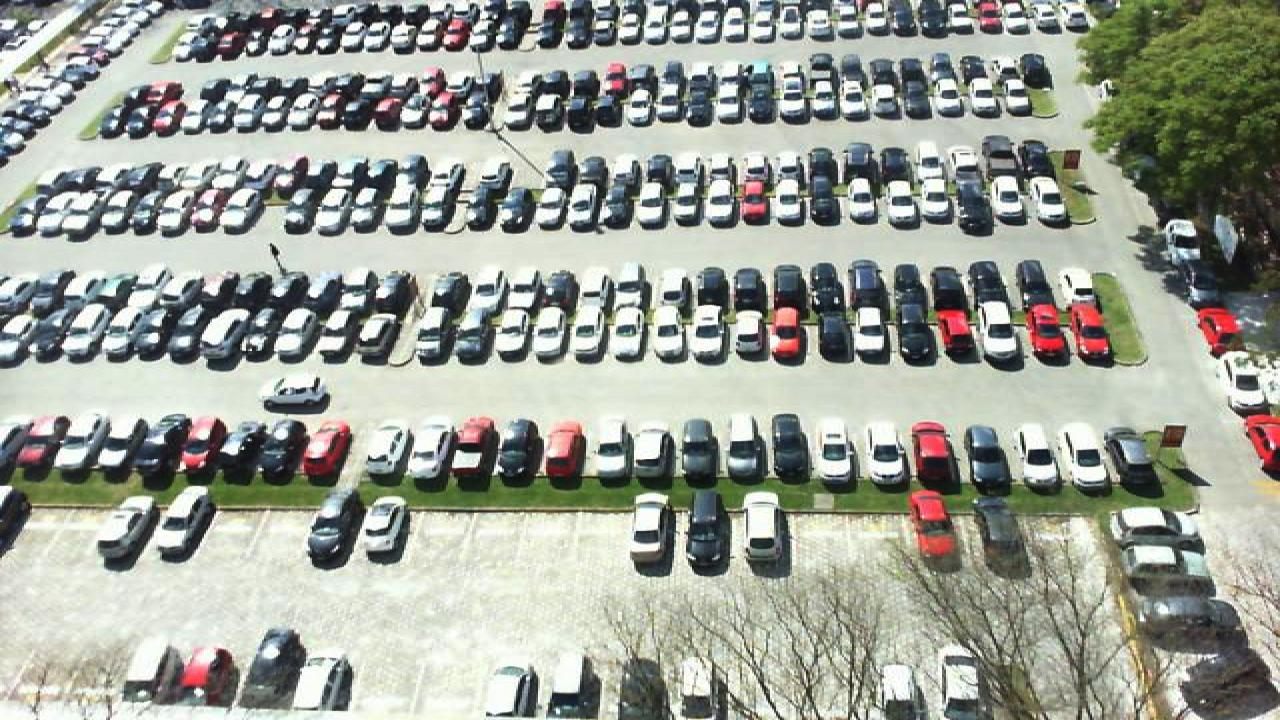Car: (1014, 261, 1070, 365), (106, 269, 166, 360), (970, 261, 1022, 365), (1060, 266, 1114, 364), (192, 270, 248, 363), (928, 261, 978, 365), (30, 272, 86, 364), (238, 628, 300, 708), (152, 271, 206, 361), (454, 271, 508, 361), (88, 163, 156, 234), (68, 272, 122, 361), (414, 270, 468, 359), (126, 159, 190, 233), (160, 157, 222, 233), (356, 269, 408, 359), (1138, 592, 1244, 636), (494, 271, 546, 360), (808, 263, 854, 361), (318, 269, 368, 359), (0, 272, 50, 361), (50, 166, 110, 240), (894, 262, 938, 362), (10, 168, 72, 238), (238, 270, 286, 360), (610, 262, 654, 360), (122, 638, 180, 712), (196, 156, 254, 230), (278, 269, 326, 358), (96, 486, 156, 557), (850, 259, 892, 360), (536, 268, 582, 360), (228, 156, 286, 228), (158, 485, 220, 552), (652, 267, 696, 361), (908, 487, 962, 563), (730, 264, 772, 360), (320, 155, 372, 232), (948, 138, 992, 229), (284, 156, 338, 230), (938, 643, 990, 719), (386, 155, 438, 231), (692, 266, 734, 360), (768, 264, 808, 362), (984, 135, 1028, 224), (572, 267, 614, 360), (354, 154, 404, 232), (1020, 143, 1068, 224), (972, 497, 1028, 566), (308, 487, 360, 559), (544, 650, 598, 719), (422, 154, 470, 231), (1102, 426, 1160, 489), (454, 155, 502, 231), (740, 492, 786, 568), (684, 488, 728, 567), (914, 141, 954, 227), (182, 647, 234, 713), (292, 657, 350, 715), (1124, 538, 1214, 575), (628, 493, 672, 568), (136, 414, 190, 475), (878, 144, 918, 226), (490, 158, 536, 229), (964, 424, 1012, 491), (1220, 351, 1276, 408), (358, 496, 410, 557), (1058, 422, 1106, 488), (568, 150, 608, 229), (842, 143, 880, 226), (178, 417, 230, 477), (404, 66, 452, 131), (538, 148, 576, 230), (1110, 507, 1204, 540), (1014, 422, 1060, 489), (480, 664, 536, 719), (98, 82, 154, 137), (34, 413, 86, 472), (302, 419, 352, 480), (678, 656, 726, 719), (866, 415, 908, 487), (604, 153, 644, 228), (132, 81, 186, 136), (198, 78, 250, 135), (222, 419, 272, 478), (912, 421, 956, 488), (0, 414, 46, 478), (1160, 216, 1204, 282), (1136, 569, 1226, 601), (374, 72, 422, 132), (166, 80, 218, 135), (618, 657, 664, 719), (432, 68, 478, 130), (362, 423, 412, 480), (876, 660, 924, 719), (346, 73, 394, 132), (452, 417, 496, 481), (496, 419, 540, 483), (808, 148, 844, 226), (726, 412, 766, 482), (768, 413, 808, 483), (84, 416, 132, 474), (258, 420, 306, 478), (260, 76, 308, 134), (542, 422, 586, 485), (462, 68, 506, 131), (770, 149, 806, 225), (590, 418, 634, 480), (736, 151, 772, 226), (816, 419, 858, 483), (290, 78, 338, 134), (230, 79, 278, 134), (318, 75, 364, 132), (638, 151, 672, 227), (680, 418, 720, 482), (670, 152, 704, 227), (704, 152, 738, 227), (414, 420, 454, 481), (506, 71, 548, 129), (1018, 52, 1056, 116), (922, 52, 958, 119), (634, 421, 674, 480), (538, 68, 576, 130), (1196, 306, 1246, 353), (830, 54, 864, 122), (594, 63, 630, 126), (954, 52, 988, 118), (566, 66, 602, 127), (892, 56, 926, 120), (862, 53, 894, 120), (986, 53, 1020, 116), (1244, 413, 1280, 471), (654, 64, 686, 126), (682, 64, 714, 126), (712, 63, 744, 125), (626, 65, 658, 126), (770, 61, 802, 122), (802, 60, 832, 122), (742, 63, 772, 124), (270, 376, 324, 407)
